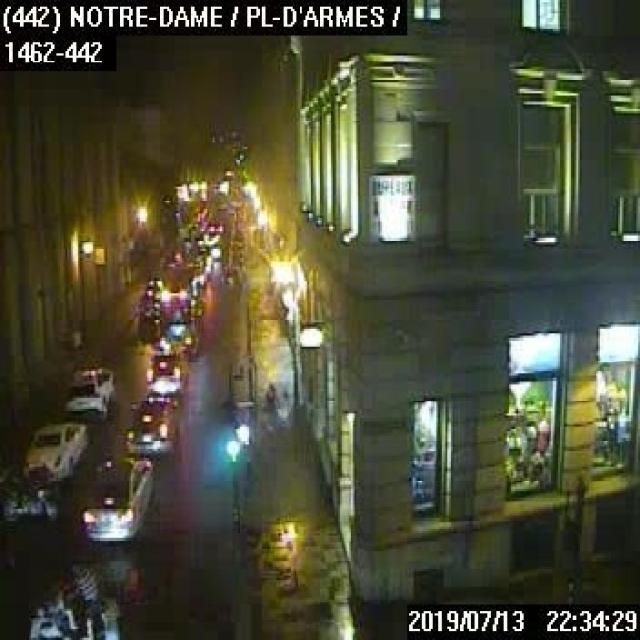pedestrian: (264, 380, 274, 409)
vehicle: (82, 455, 152, 538), (21, 420, 88, 482), (124, 395, 177, 460), (62, 363, 110, 426), (144, 347, 188, 397)
